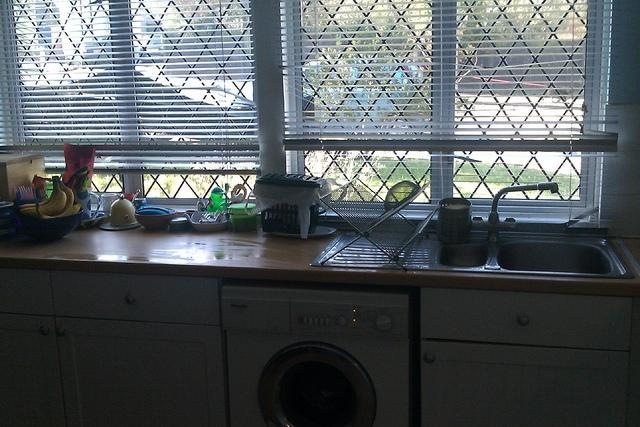banana: (15, 180, 66, 218), (51, 176, 74, 216), (36, 202, 81, 220), (18, 190, 54, 209)
